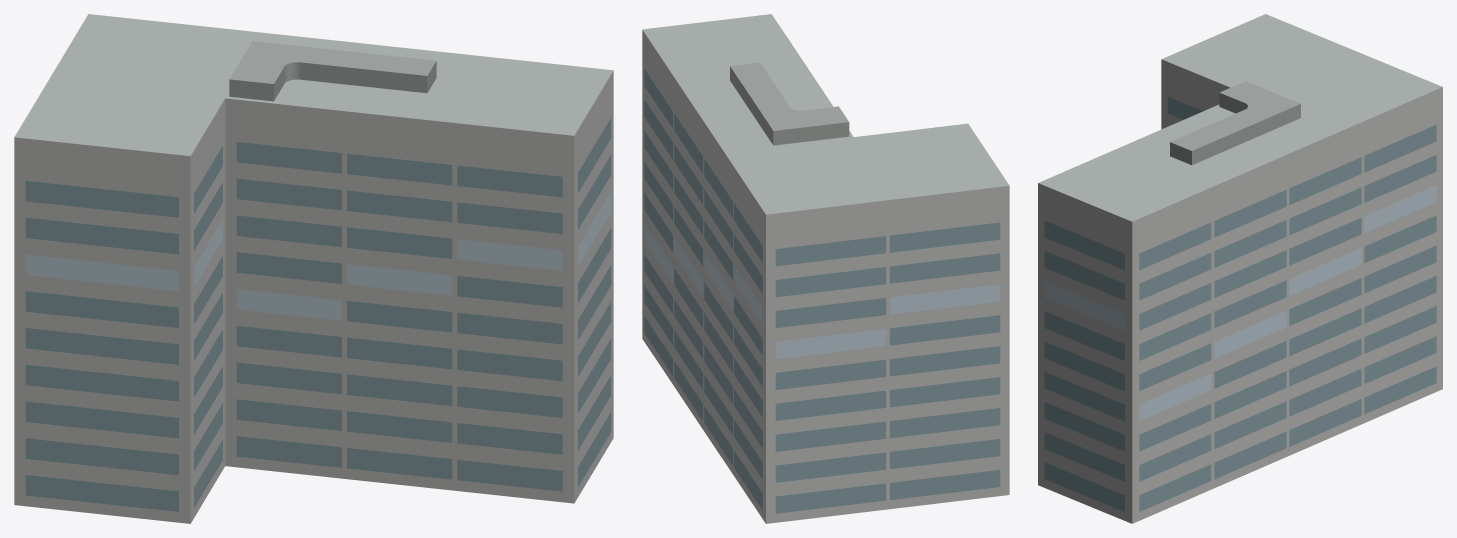
Rendered from fallback-dmc-raemian-e-pyeonhansesang-203.glb.
3 views of the same model, side by side, from view 1: azimuth 30°, elevation 25°; view 2: azimuth 150°, elevation 25°; view 3: azimuth 270°, elevation 25° (orthographic). The views are drawn at different scales.
Visible parts, largest first — view 1: fallback-dmc-raemian-e-pyeonhansesang-203; view 2: fallback-dmc-raemian-e-pyeonhansesang-203; view 3: fallback-dmc-raemian-e-pyeonhansesang-203.
Boxes of the visible parts, x1,y1,x2,y2 form: fallback-dmc-raemian-e-pyeonhansesang-203: (14, 14, 613, 523); fallback-dmc-raemian-e-pyeonhansesang-203: (642, 14, 1009, 523); fallback-dmc-raemian-e-pyeonhansesang-203: (1038, 14, 1442, 523).
Bounding box in the file's own units: 42.25 × 30 × 34.79.
